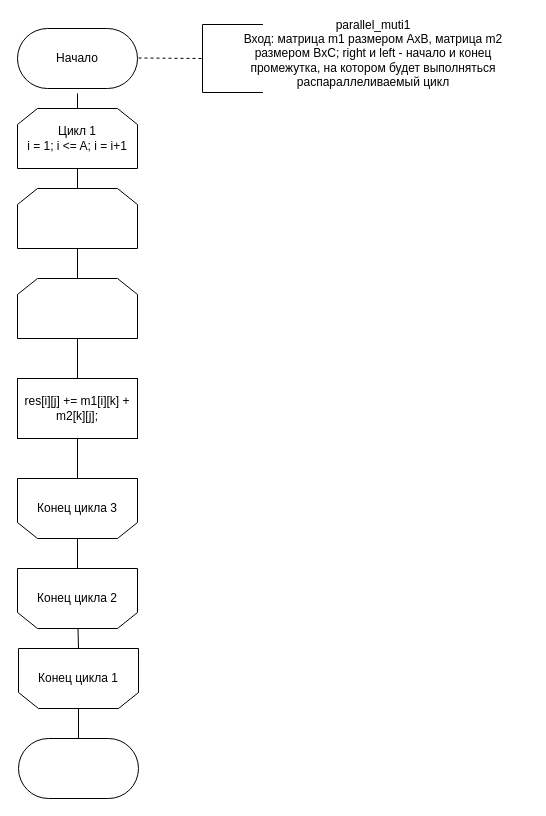
This 546x816 diagram has some shape labels left out. Each missing label, with the centre of its shape:
Конец: point 78,768
Цикл 2 j = right; j <=left; j = j+1: point 77,218
Цикл 3 k = 1; k <= B; k = k+1: point 77,308
